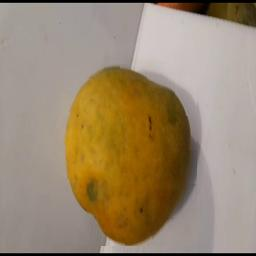Mango Fresh: (53, 60, 198, 246)
